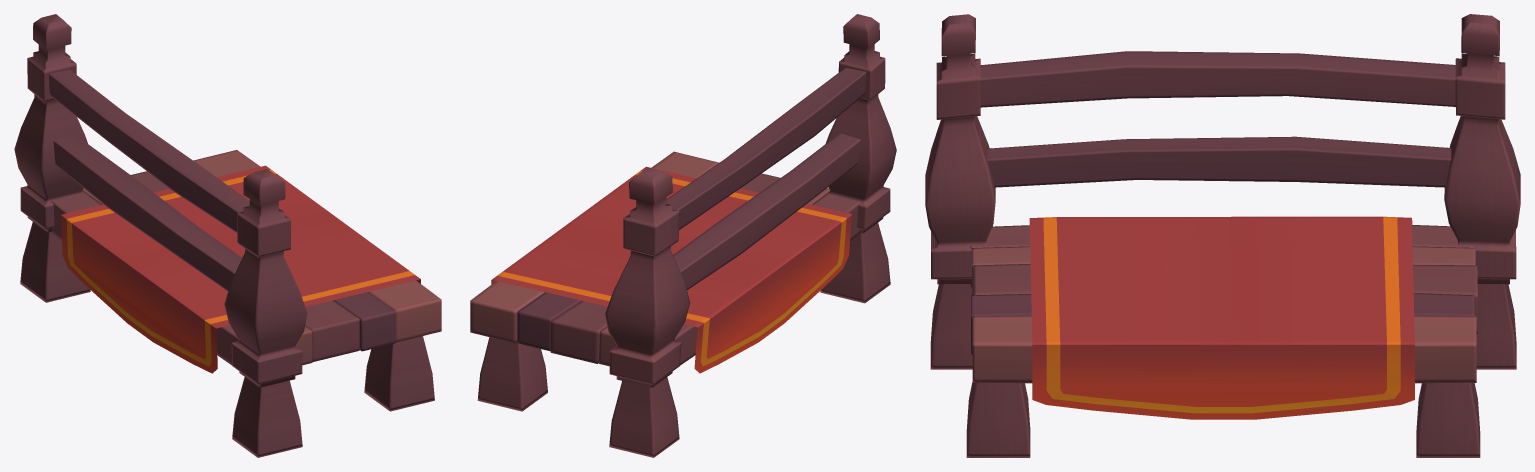
File: Bench_001.glb
The picture shows the model from 3 angles, left to right: view 1: azimuth 30°, elevation 25°; view 2: azimuth 150°, elevation 25°; view 3: azimuth 270°, elevation 25°; orthographic projection. The views are drawn at different scales.
Visible parts, largest first — view 1: Cube.003; view 2: Cube.003; view 3: Cube.003.
Boxes of the visible parts, x1,y1,x2,y2 form: Cube.003: [14, 14, 441, 457]; Cube.003: [470, 14, 896, 457]; Cube.003: [925, 14, 1520, 457].
Size of the model in its own units: 3.64 by 4.44 by 7.16.
1 material, 1 textured.
